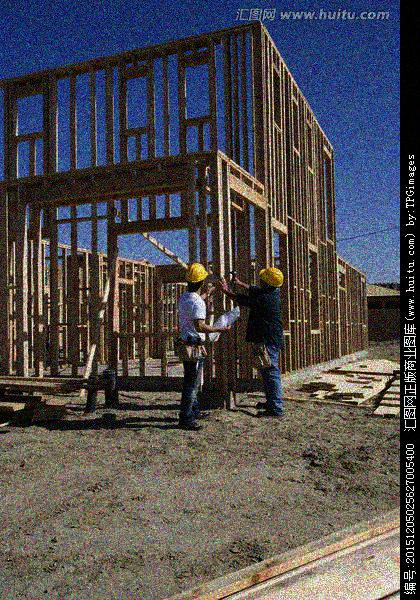helmet: (184, 260, 208, 292), (256, 266, 284, 291)
